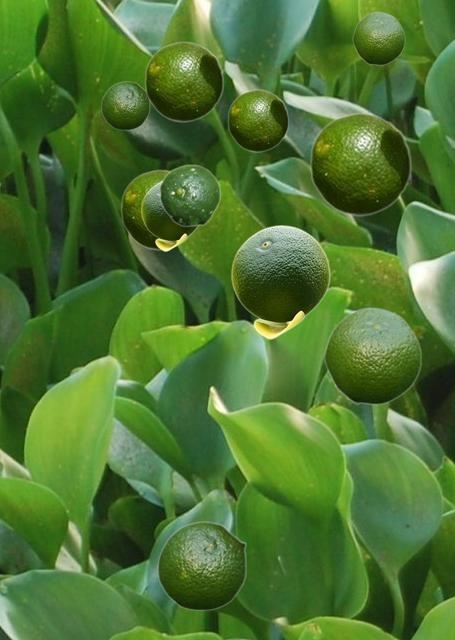calamansi: (231, 225, 329, 338), (309, 112, 411, 215), (323, 306, 421, 404), (157, 521, 246, 610), (144, 41, 223, 121), (120, 169, 191, 249), (141, 181, 198, 250), (159, 164, 220, 226), (227, 89, 288, 151), (352, 11, 404, 64), (101, 81, 149, 129)
